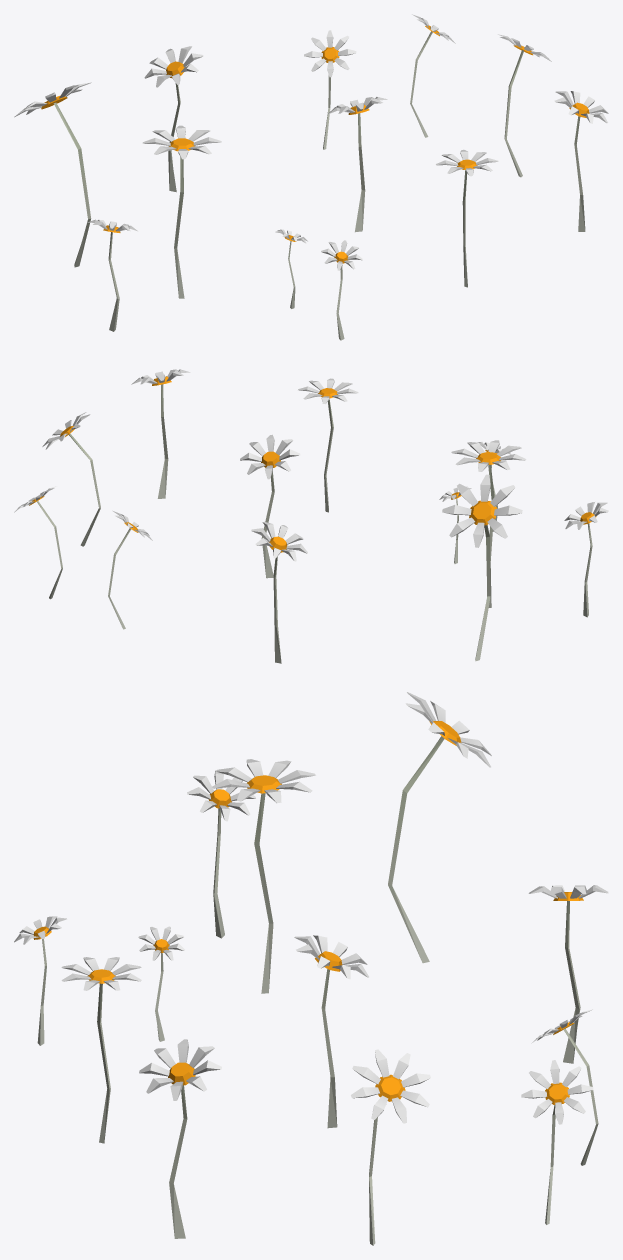
Rendered from flower_daisy.glb.
3 renders of one model, top to bottom at view 1: azimuth 30°, elevation 25°; view 2: azimuth 150°, elevation 25°; view 3: azimuth 270°, elevation 25°, orthographic. The views are drawn at different scales.
Visible parts, largest first — view 1: Flower 4_4_A; view 2: Flower 4_4_A; view 3: Flower 4_4_A.
Boxes of the visible parts, x1,y1,x2,y2 form: Flower 4_4_A: [14, 14, 608, 340]; Flower 4_4_A: [14, 369, 608, 663]; Flower 4_4_A: [14, 692, 608, 1245].
Bounding box in the file's own units: 0.736 × 0.2551 × 0.5398.
Materials: 1 (1 with a texture image).
